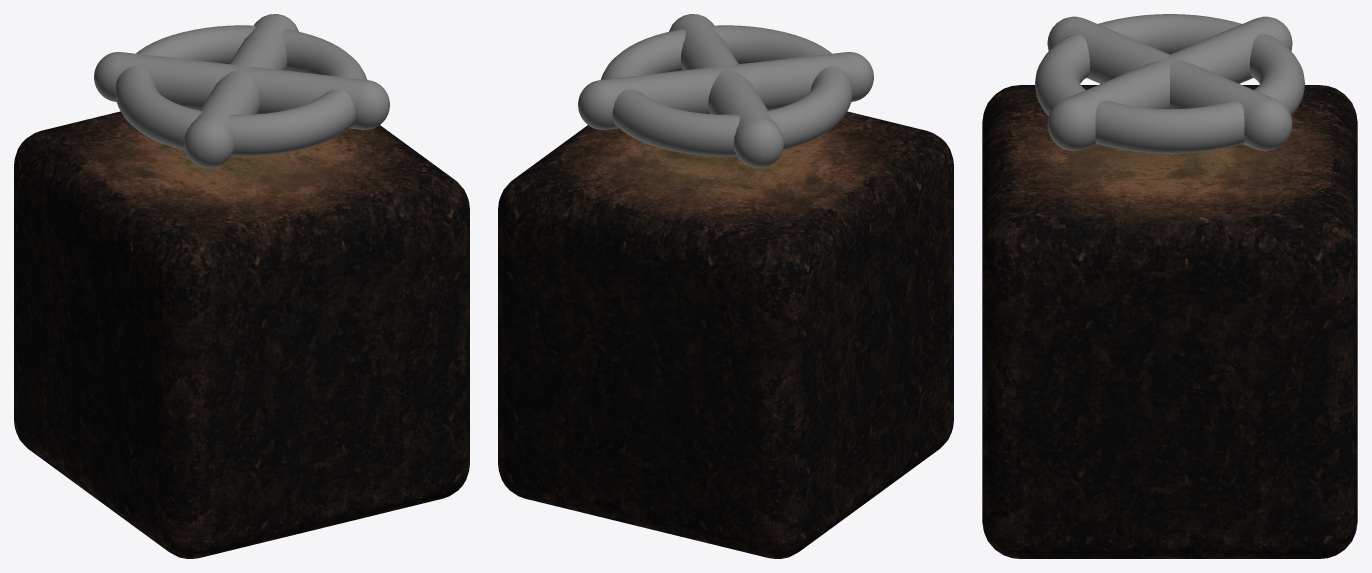
3 views of the same model, side by side, from view 1: azimuth 30°, elevation 25°; view 2: azimuth 150°, elevation 25°; view 3: azimuth 270°, elevation 25° (orthographic). The views are drawn at different scales.
Parts seen in each view (by area): view 1: Cube, X, Ring; view 2: Cube, X, Ring; view 3: Cube, X, Ring.
Boxes of the visible parts, bbox=[...] form: Cube: bbox=[14, 111, 469, 558]; X: bbox=[94, 14, 389, 167]; Ring: bbox=[115, 25, 367, 156]; Cube: bbox=[498, 111, 953, 558]; X: bbox=[578, 14, 873, 167]; Ring: bbox=[600, 25, 852, 156]; Cube: bbox=[982, 85, 1357, 558]; X: bbox=[1047, 16, 1292, 151]; Ring: bbox=[1035, 14, 1304, 153].
Size of the model in its own units: 100 by 127 by 100.
